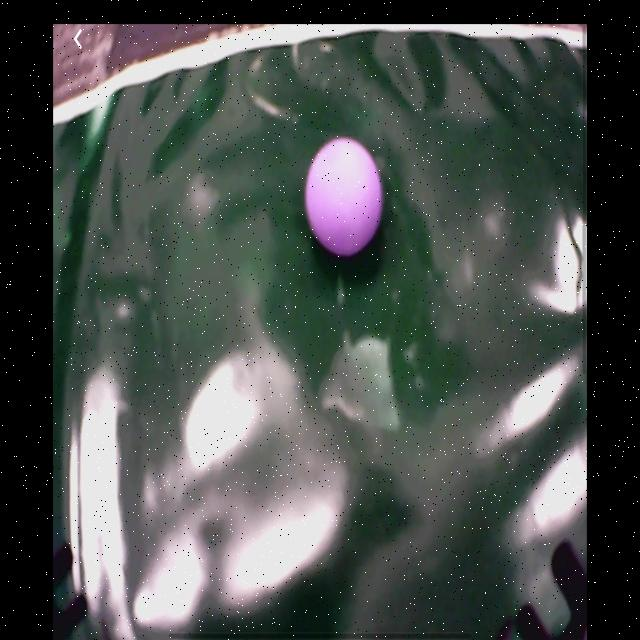ball: (308, 138, 382, 254)
